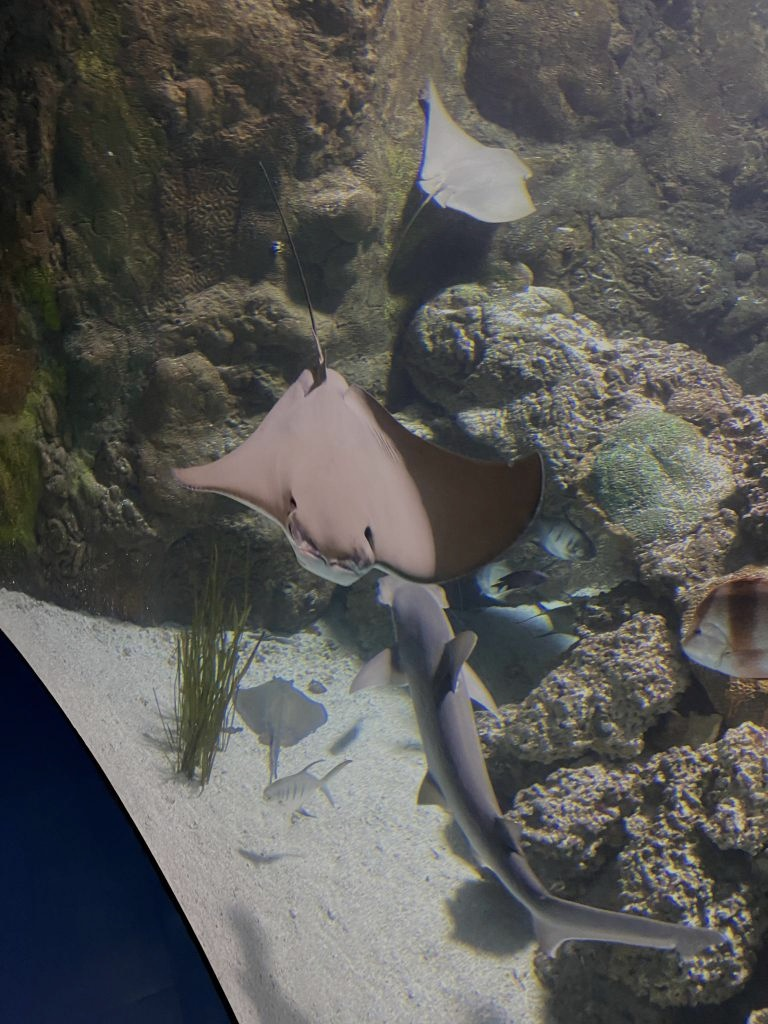fish: (677, 565, 767, 689), (258, 755, 356, 811)
shark: (347, 571, 725, 983)
stingray: (172, 359, 546, 583), (416, 74, 546, 232), (224, 675, 330, 753)
